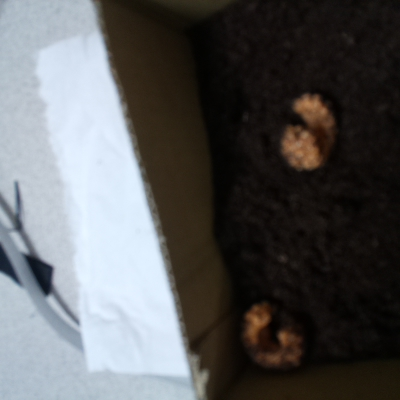eggs: (230, 296, 311, 380), (274, 84, 339, 178)
